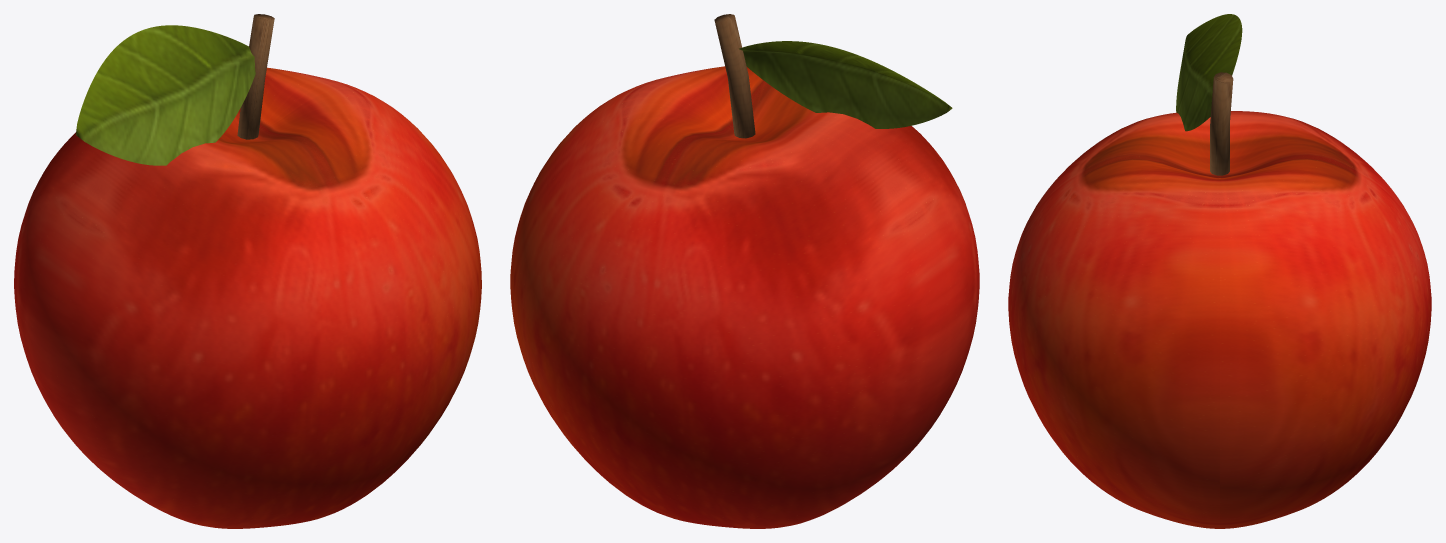
File: drag-apple.glb
3 renders of one model, left to right at view 1: azimuth 30°, elevation 25°; view 2: azimuth 150°, elevation 25°; view 3: azimuth 270°, elevation 25°, orthographic. The views are drawn at different scales.
Visible parts, largest first — view 1: drag-apple-mesh; view 2: drag-apple-mesh; view 3: drag-apple-mesh.
Boxes of the visible parts, bbox=[...] form: drag-apple-mesh: bbox=[14, 14, 481, 528]; drag-apple-mesh: bbox=[510, 14, 979, 528]; drag-apple-mesh: bbox=[1008, 14, 1431, 528].
Bounding box in the file's own units: 0.0903 × 0.1027 × 0.0903.
3 materials, 3 textured.
